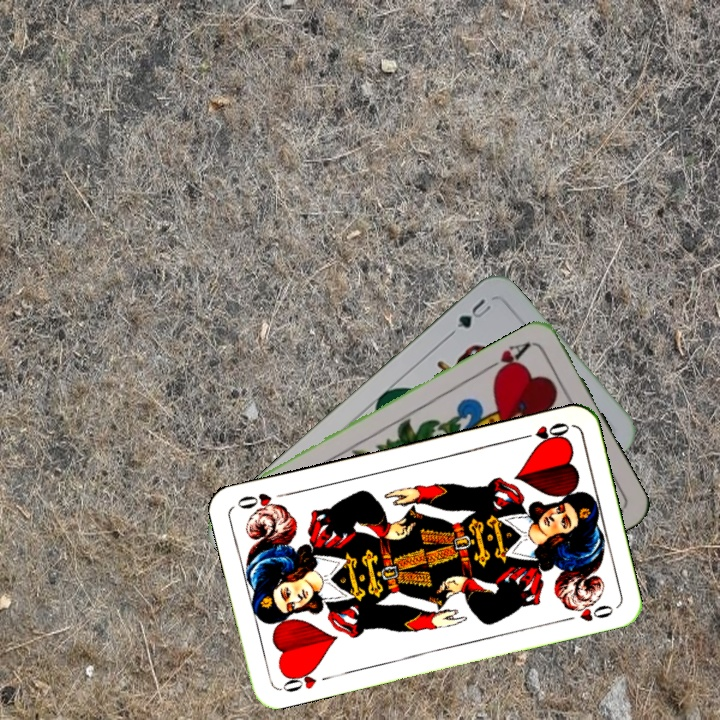GU: (452, 294, 494, 331)
HA: (481, 338, 534, 380)
HO: (515, 418, 573, 448), (276, 663, 320, 695)
